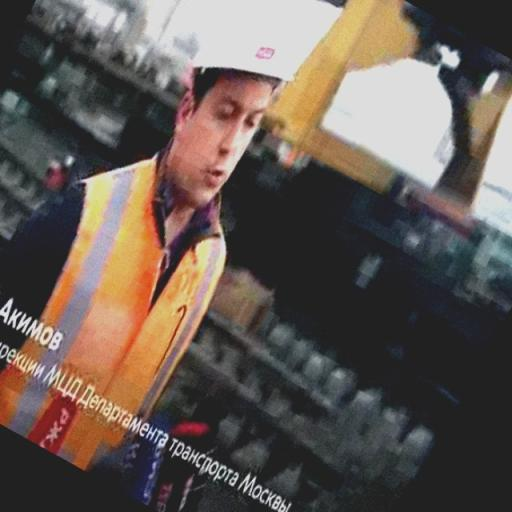Person: (0, 2, 307, 500)
helmet: (190, 5, 301, 92)
vest: (7, 159, 229, 474)
